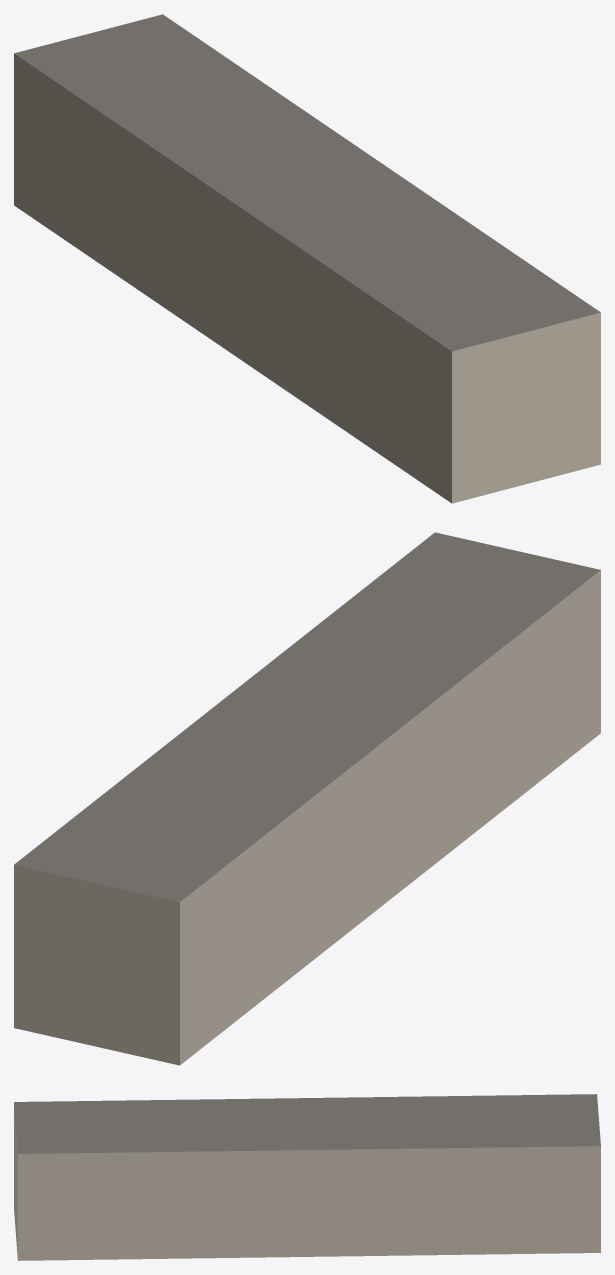
3 renders of one model, top to bottom at view 1: azimuth 30°, elevation 25°; view 2: azimuth 150°, elevation 25°; view 3: azimuth 270°, elevation 25°, orthographic. The views are drawn at different scales.
Visible parts, largest first — view 1: HP-w1202494172; view 2: HP-w1202494172; view 3: HP-w1202494172.
Part boxes in pixels (<box>): HP-w1202494172: <box>14,14,600,503</box>; HP-w1202494172: <box>14,532,600,1065</box>; HP-w1202494172: <box>14,1094,600,1260</box>.
Size of the model in its own units: 14.43 by 12 by 59.76.
